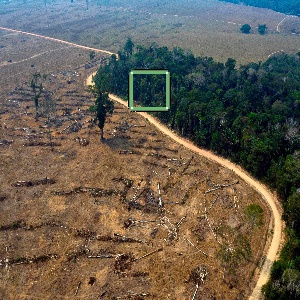square: (126, 66, 172, 115)
